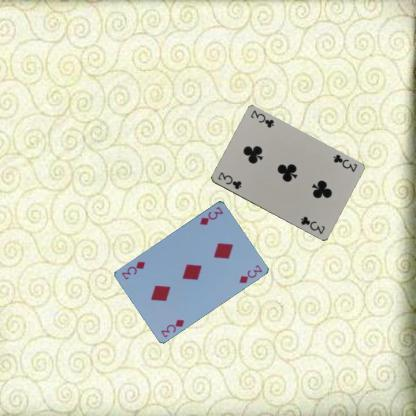3c: (215, 169, 243, 191), (331, 152, 358, 173)
3d: (197, 204, 225, 226), (158, 316, 186, 338)
